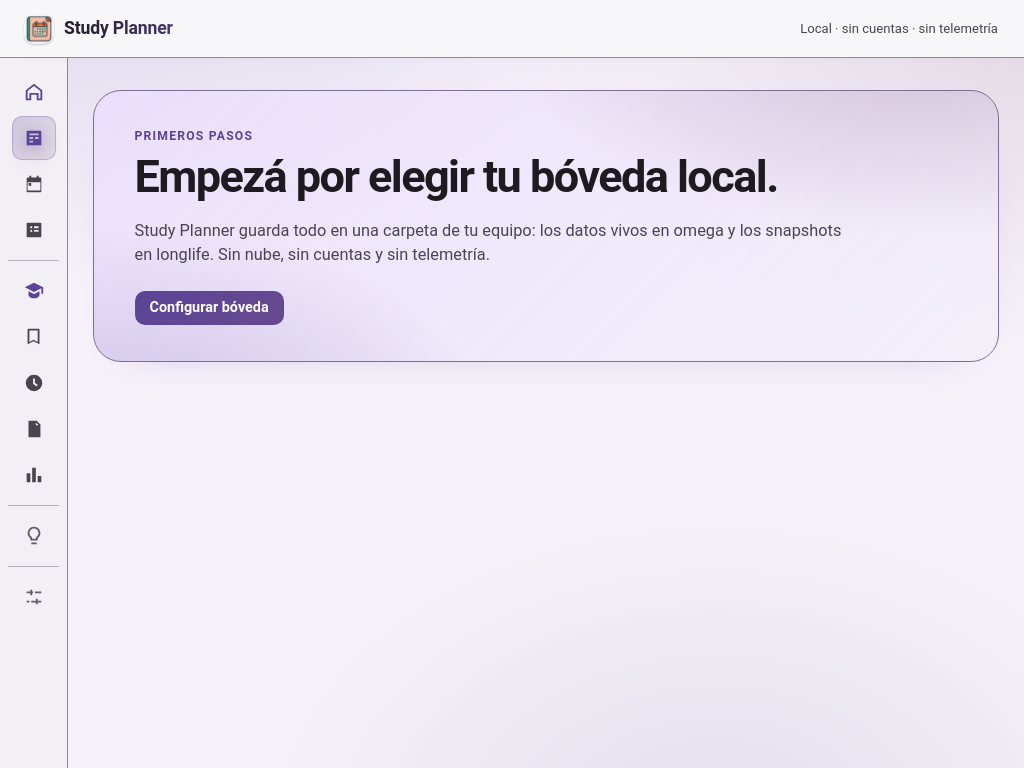
Test: App en navegador › vuelve a Hoy desde una sección provisional
Click the button named "Calendario" at [34, 184], box x1=12 y1=162 x2=56 y2=206
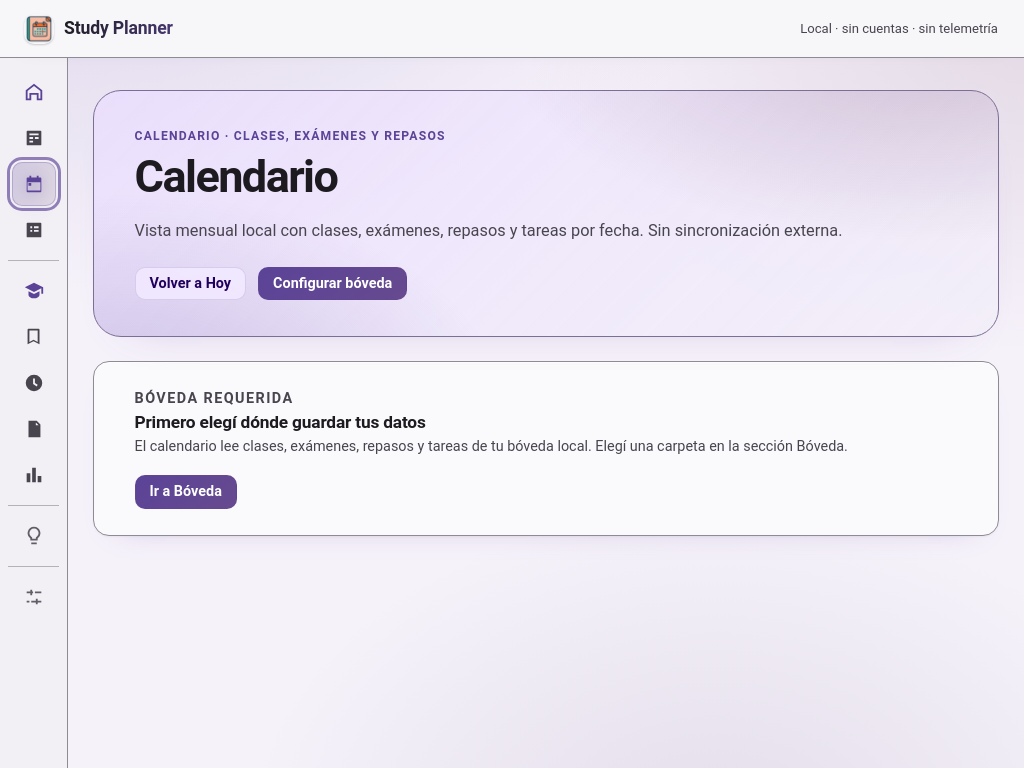
Click the button "Volver a Hoy" at [190, 284], box x1=134 y1=267 x2=246 y2=300
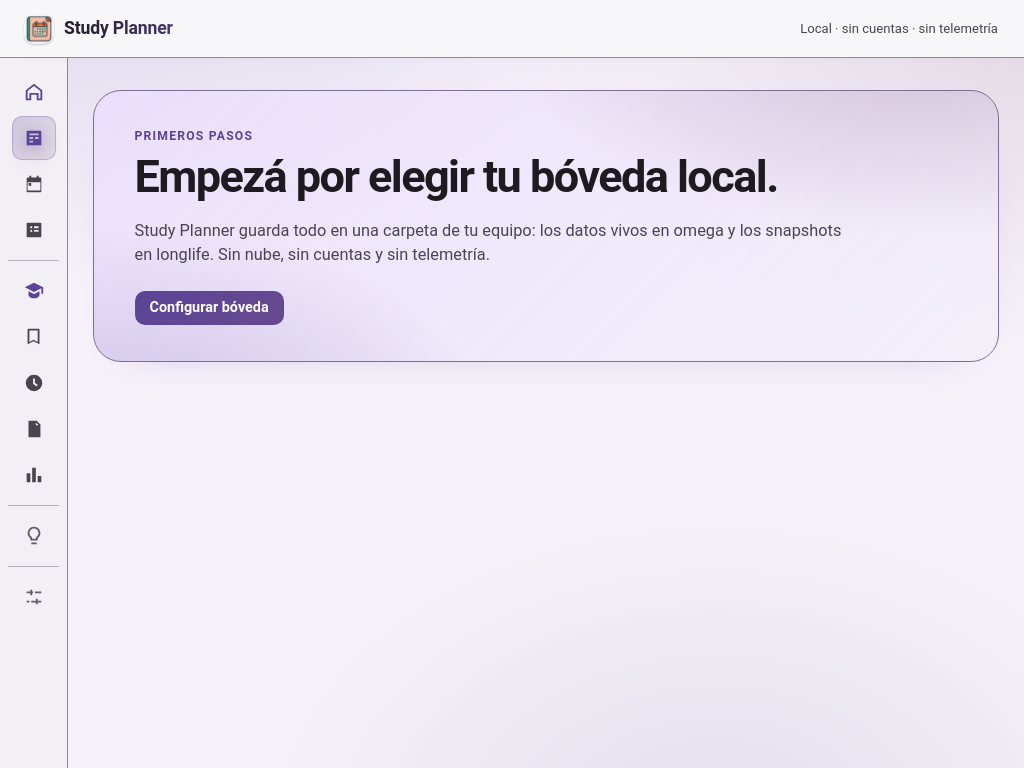
Check: the heading "Empezá por elegir tu bóveda local." is shown, box x1=134 y1=150 x2=778 y2=203
